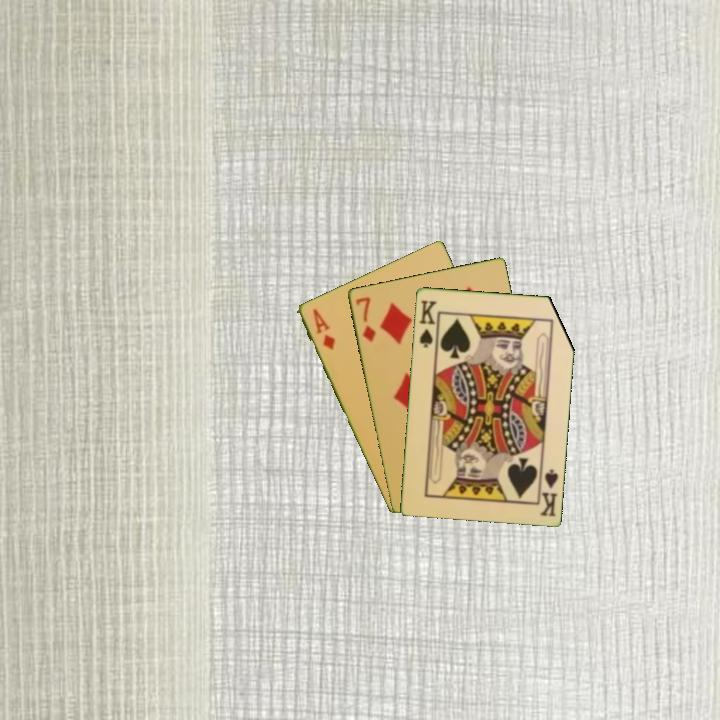7d: (352, 293, 378, 345)
Ad: (309, 305, 338, 353)
Ks: (535, 462, 561, 519), (415, 296, 441, 350)
